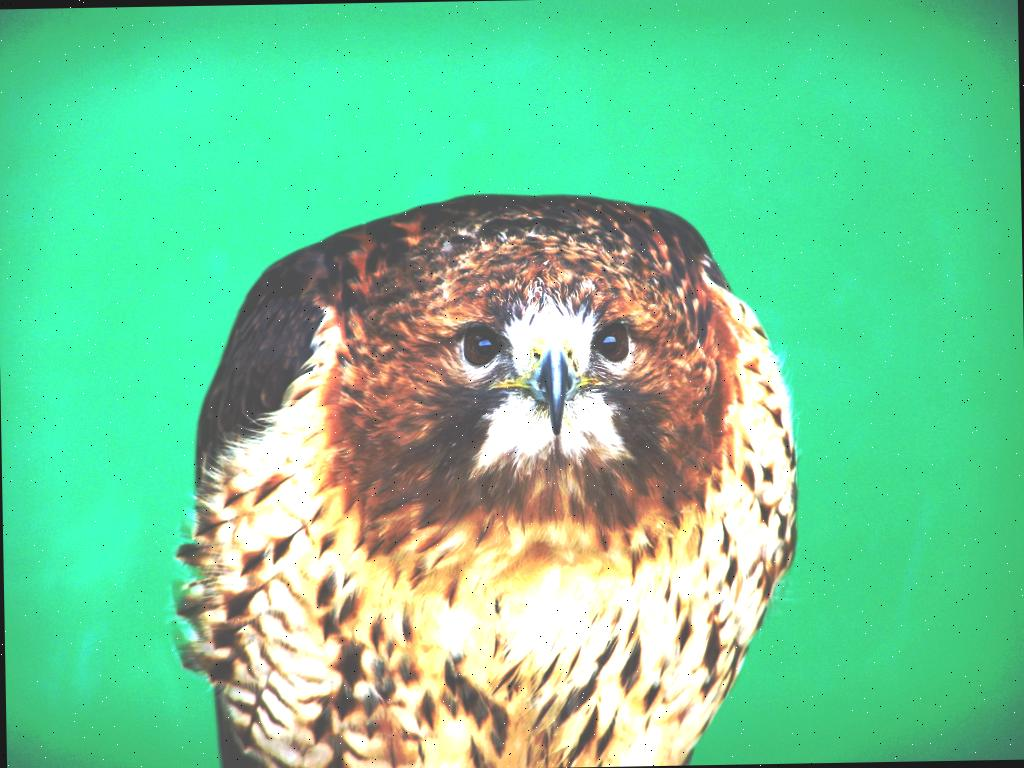Owl: (168, 185, 808, 768)
